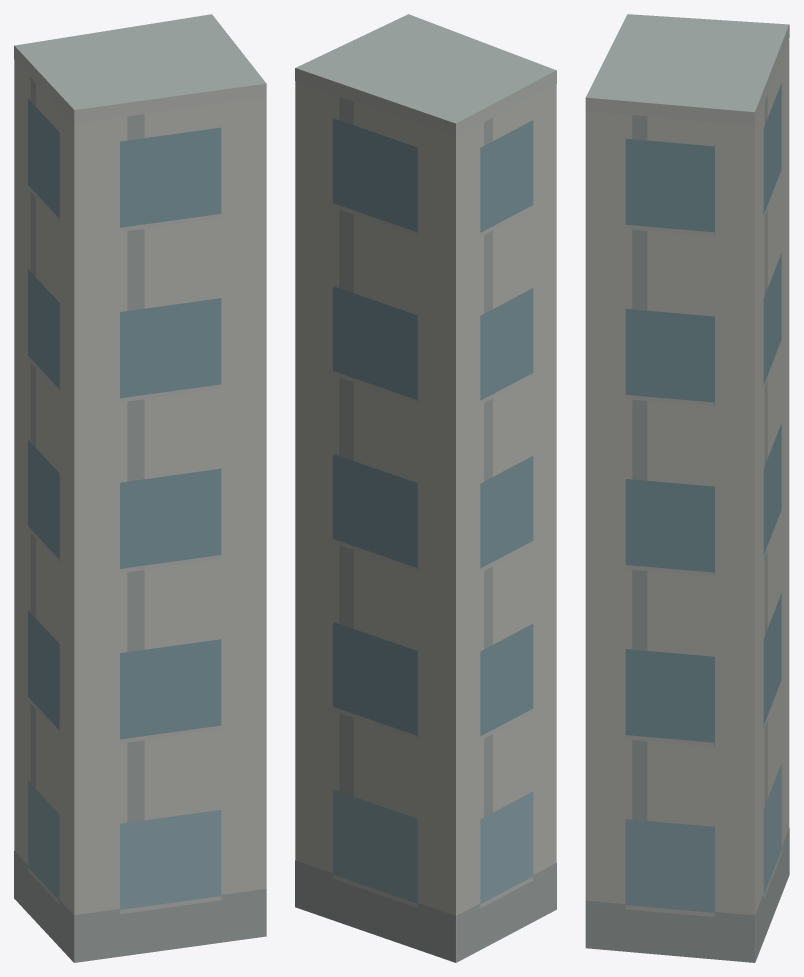
Rendered from survey-upis-32944226.glb.
3 renders of one model, left to right at view 1: azimuth 30°, elevation 25°; view 2: azimuth 150°, elevation 25°; view 3: azimuth 270°, elevation 25°, orthographic.
Parts seen in each view (by area): view 1: survey-upis-32944226.tmp; view 2: survey-upis-32944226.tmp; view 3: survey-upis-32944226.tmp.
Boxes of the visible parts, x1,y1,x2,y2 form: survey-upis-32944226.tmp: (14, 14, 266, 962); survey-upis-32944226.tmp: (295, 14, 556, 962); survey-upis-32944226.tmp: (585, 14, 789, 962).
Size of the model in its own units: 3.78 by 15.25 by 3.32.
